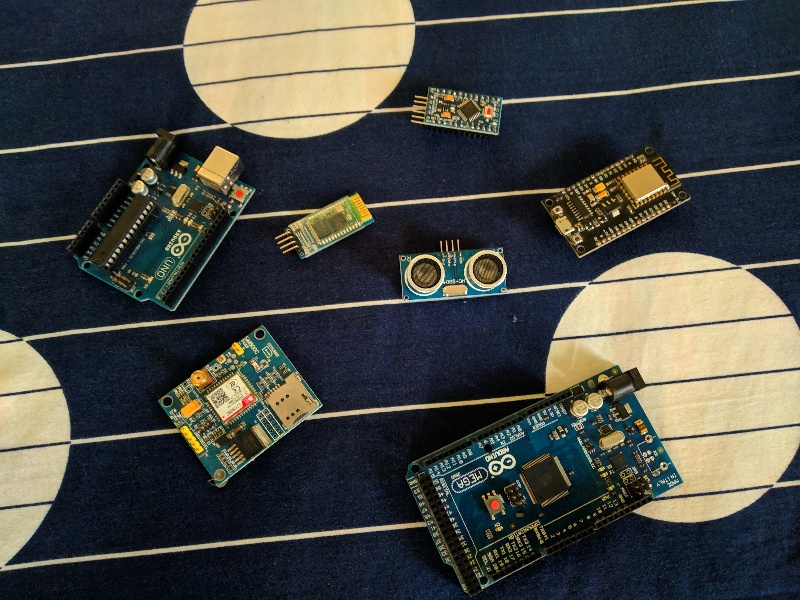Arduino Mega 2560: (400, 361, 691, 600)
Arduino Pro Mini: (421, 83, 507, 143)
Arduino UNO: (60, 122, 263, 317)
HC-05: (278, 185, 375, 263)
NodeMCU: (538, 146, 692, 262)
SIM800: (155, 322, 326, 491)
Sonar Sensor: (394, 245, 520, 305)
